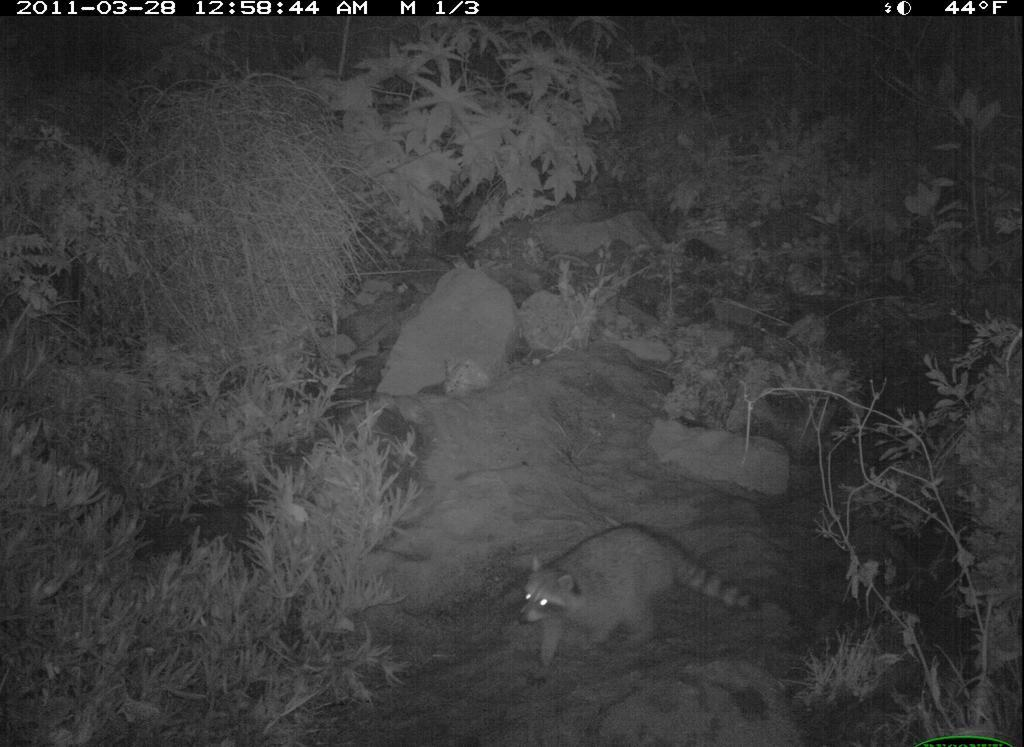raccoon: (510, 511, 774, 675)
